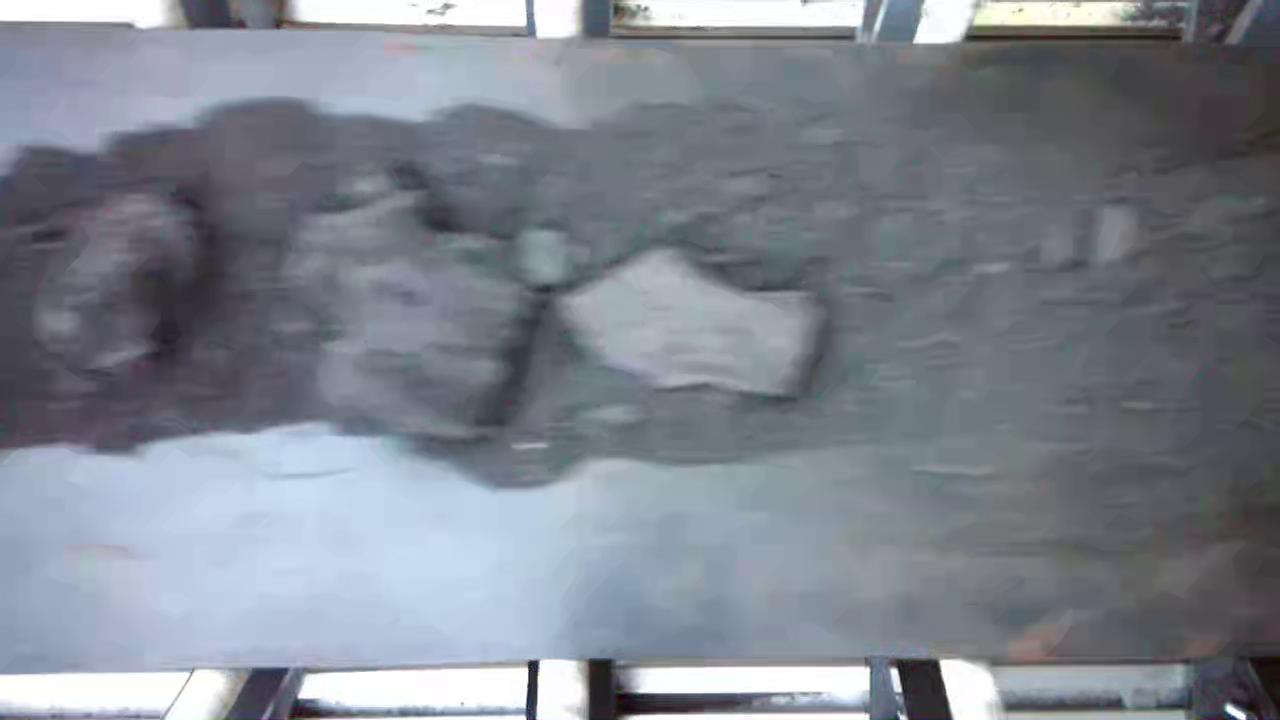conveyor: (3, 45, 1280, 646)
